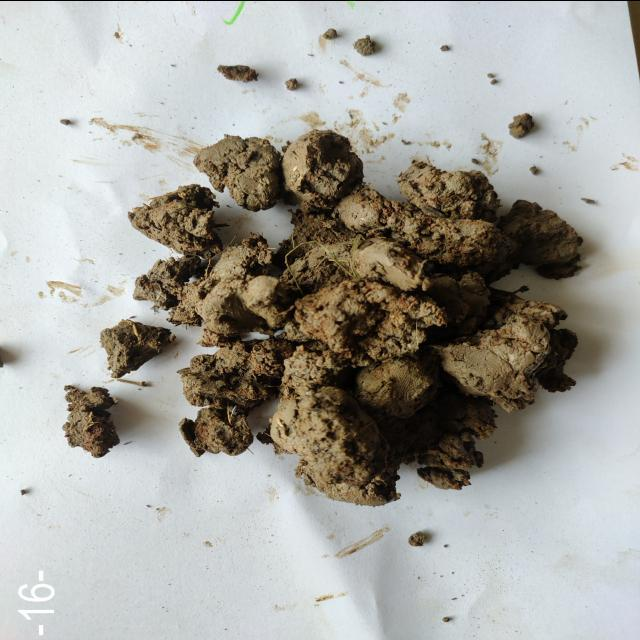soil: (204, 257, 496, 443)
